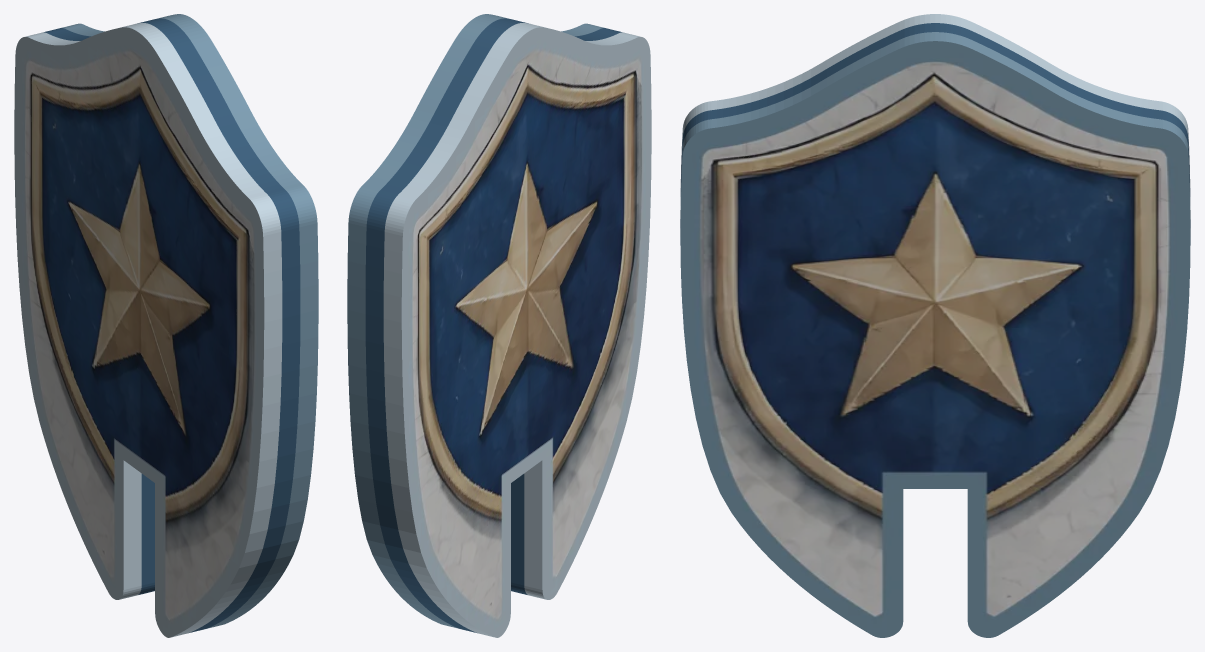
The model's file is extra-topper-01.glb.
The picture shows the model from 3 angles, left to right: view 1: azimuth 30°, elevation 25°; view 2: azimuth 150°, elevation 25°; view 3: azimuth 270°, elevation 25°; orthographic projection. The views are drawn at different scales.
Visible parts, largest first — view 1: extra-topper-01; view 2: extra-topper-01; view 3: extra-topper-01.
Boxes of the visible parts, x1,y1,x2,y2 form: extra-topper-01: [14, 14, 318, 637]; extra-topper-01: [347, 14, 651, 637]; extra-topper-01: [680, 14, 1190, 637].
Bounding box in the file's own units: 27 × 277 × 215.
5 materials, 2 textured.
